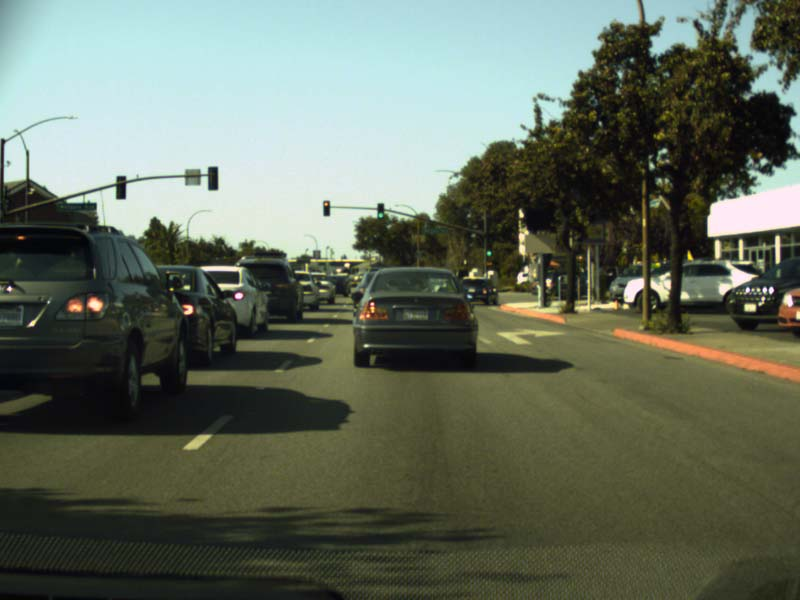Green: (377, 203, 383, 219), (486, 242, 492, 256)
Red: (323, 199, 330, 216)
